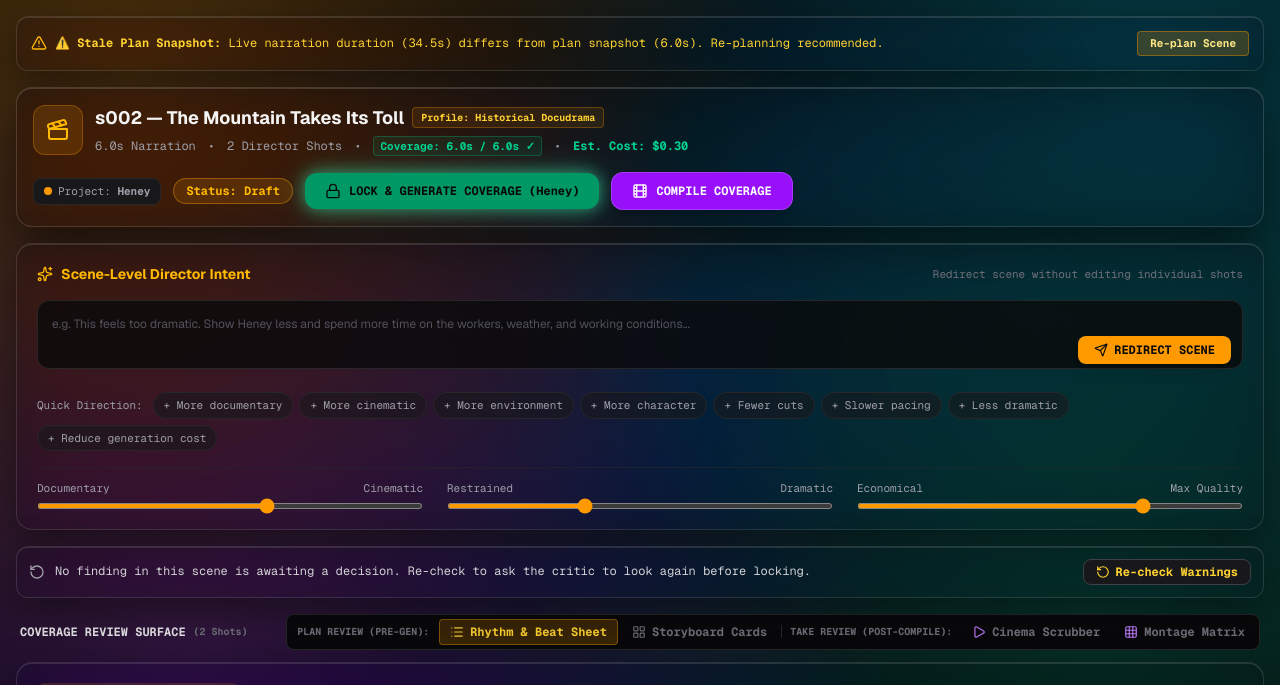
Scenario: the re-plan outcome survives the banner that started it › success is stated, even though the banner it was clicked in is gone
Step 1. Click the button with test id "replan-stale" → (1193, 43), box [1137, 31, 1249, 56]
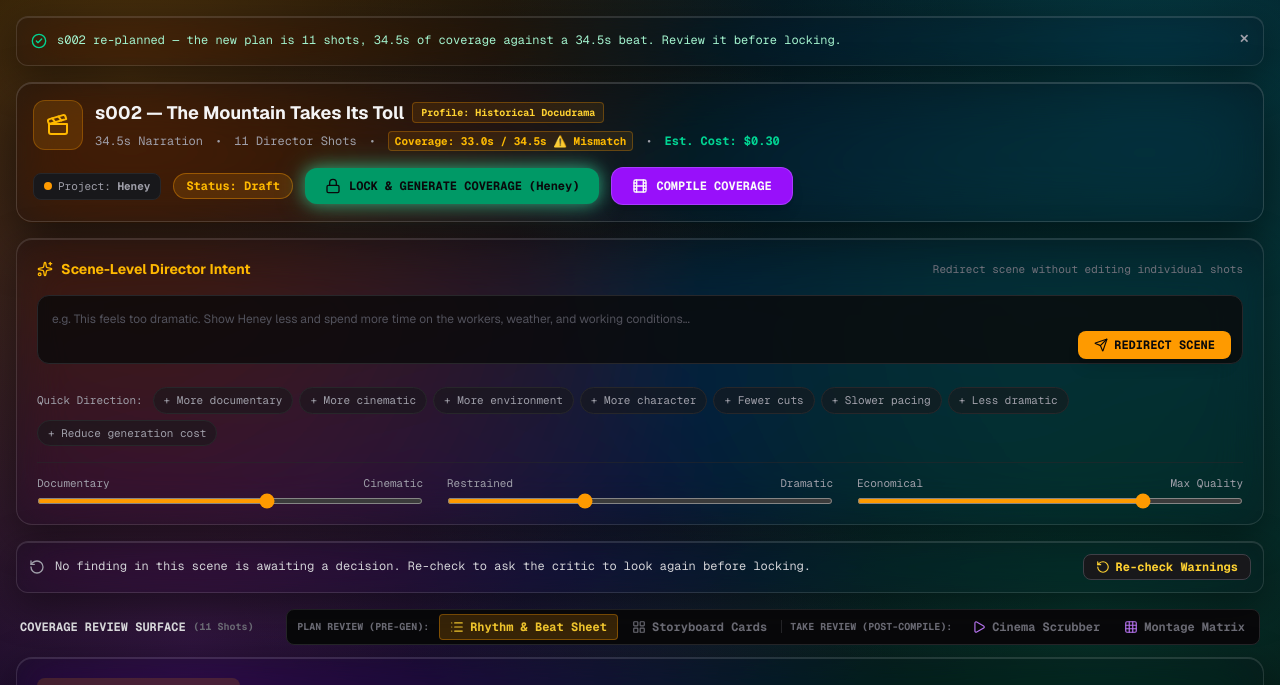
expect the text "s002 re-planned" is shown: met, box [57, 32, 842, 48]
expect the text "Stale Plan Snapshot" is gone: met
expect the button with test id "replan-stale" is gone: met
